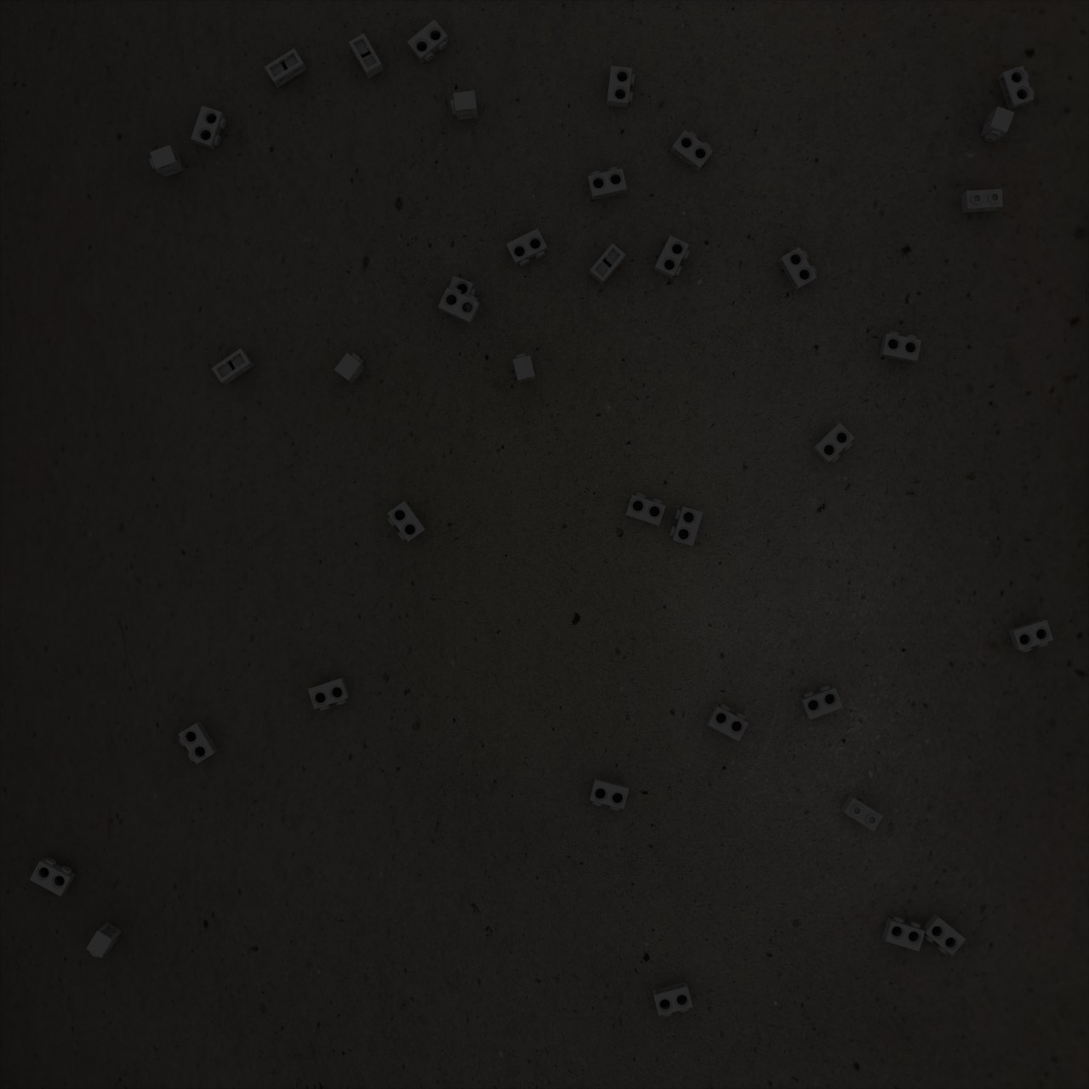lego: (921, 913, 966, 956), (407, 19, 449, 64), (29, 858, 76, 897), (671, 130, 713, 172), (812, 422, 855, 463), (264, 48, 307, 88), (178, 721, 218, 764), (778, 247, 817, 291), (706, 704, 749, 742), (840, 794, 883, 832), (653, 235, 690, 279), (998, 66, 1034, 111), (349, 33, 384, 79), (387, 501, 426, 542), (438, 287, 480, 325), (211, 348, 254, 385), (191, 105, 226, 150), (506, 228, 547, 266), (589, 243, 626, 285), (882, 916, 925, 952), (1008, 619, 1053, 653), (441, 276, 476, 319), (800, 685, 843, 720), (652, 982, 693, 1017), (308, 677, 350, 711), (879, 331, 922, 363), (589, 777, 629, 811), (625, 493, 666, 526), (670, 506, 703, 546), (86, 922, 122, 958), (588, 167, 627, 200), (980, 106, 1014, 142), (606, 66, 635, 108), (149, 145, 184, 177), (961, 189, 1003, 213), (334, 353, 365, 384), (450, 90, 478, 121), (513, 353, 535, 384)
